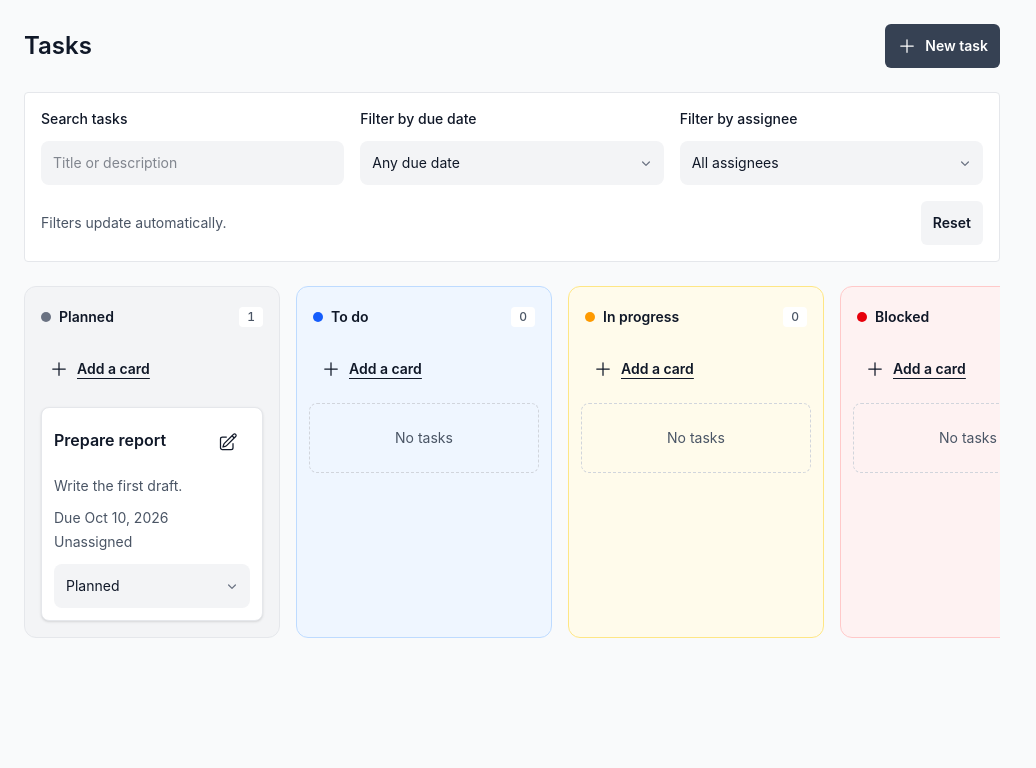
it: adds a card to a column
Click the button "Add a card" below "To do".
click(424, 369)  # box 309,347 -> 539,391
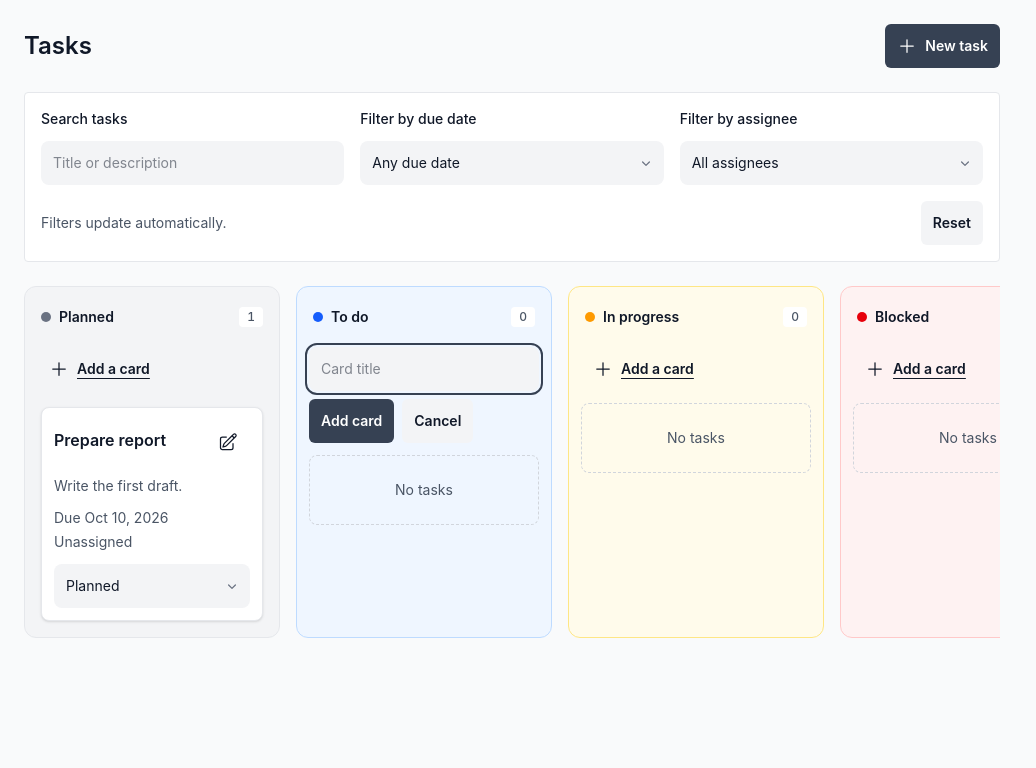
Type "Call client" into the field named "Title for a new To do card".
click(424, 369); type("Call client")  # box 309,347 -> 539,391
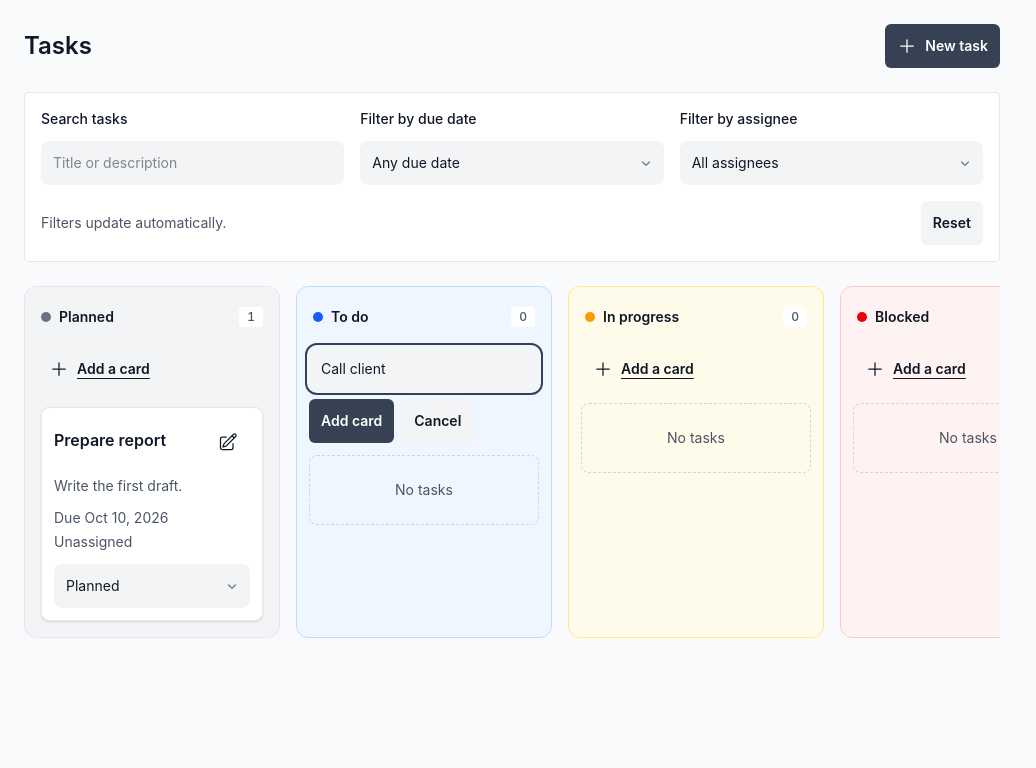
Click the button "Add card".
click(352, 421)  # box 309,399 -> 394,443
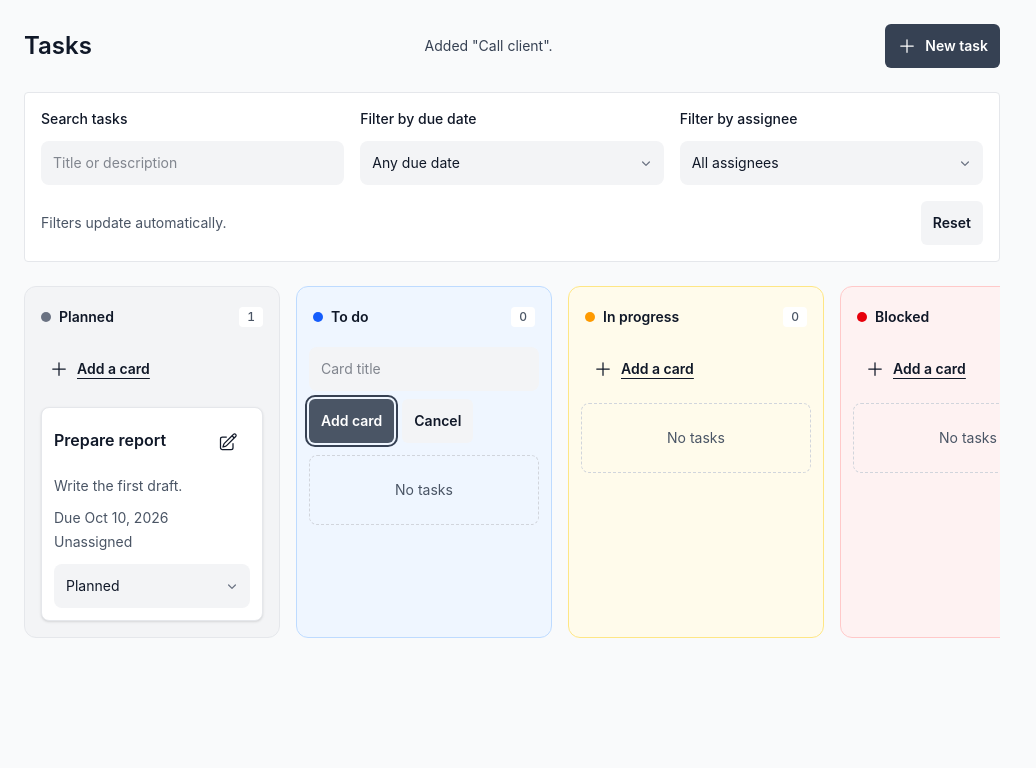
Expected: the text "Added \"Call client\"." is shown, 425,36 -> 553,56
